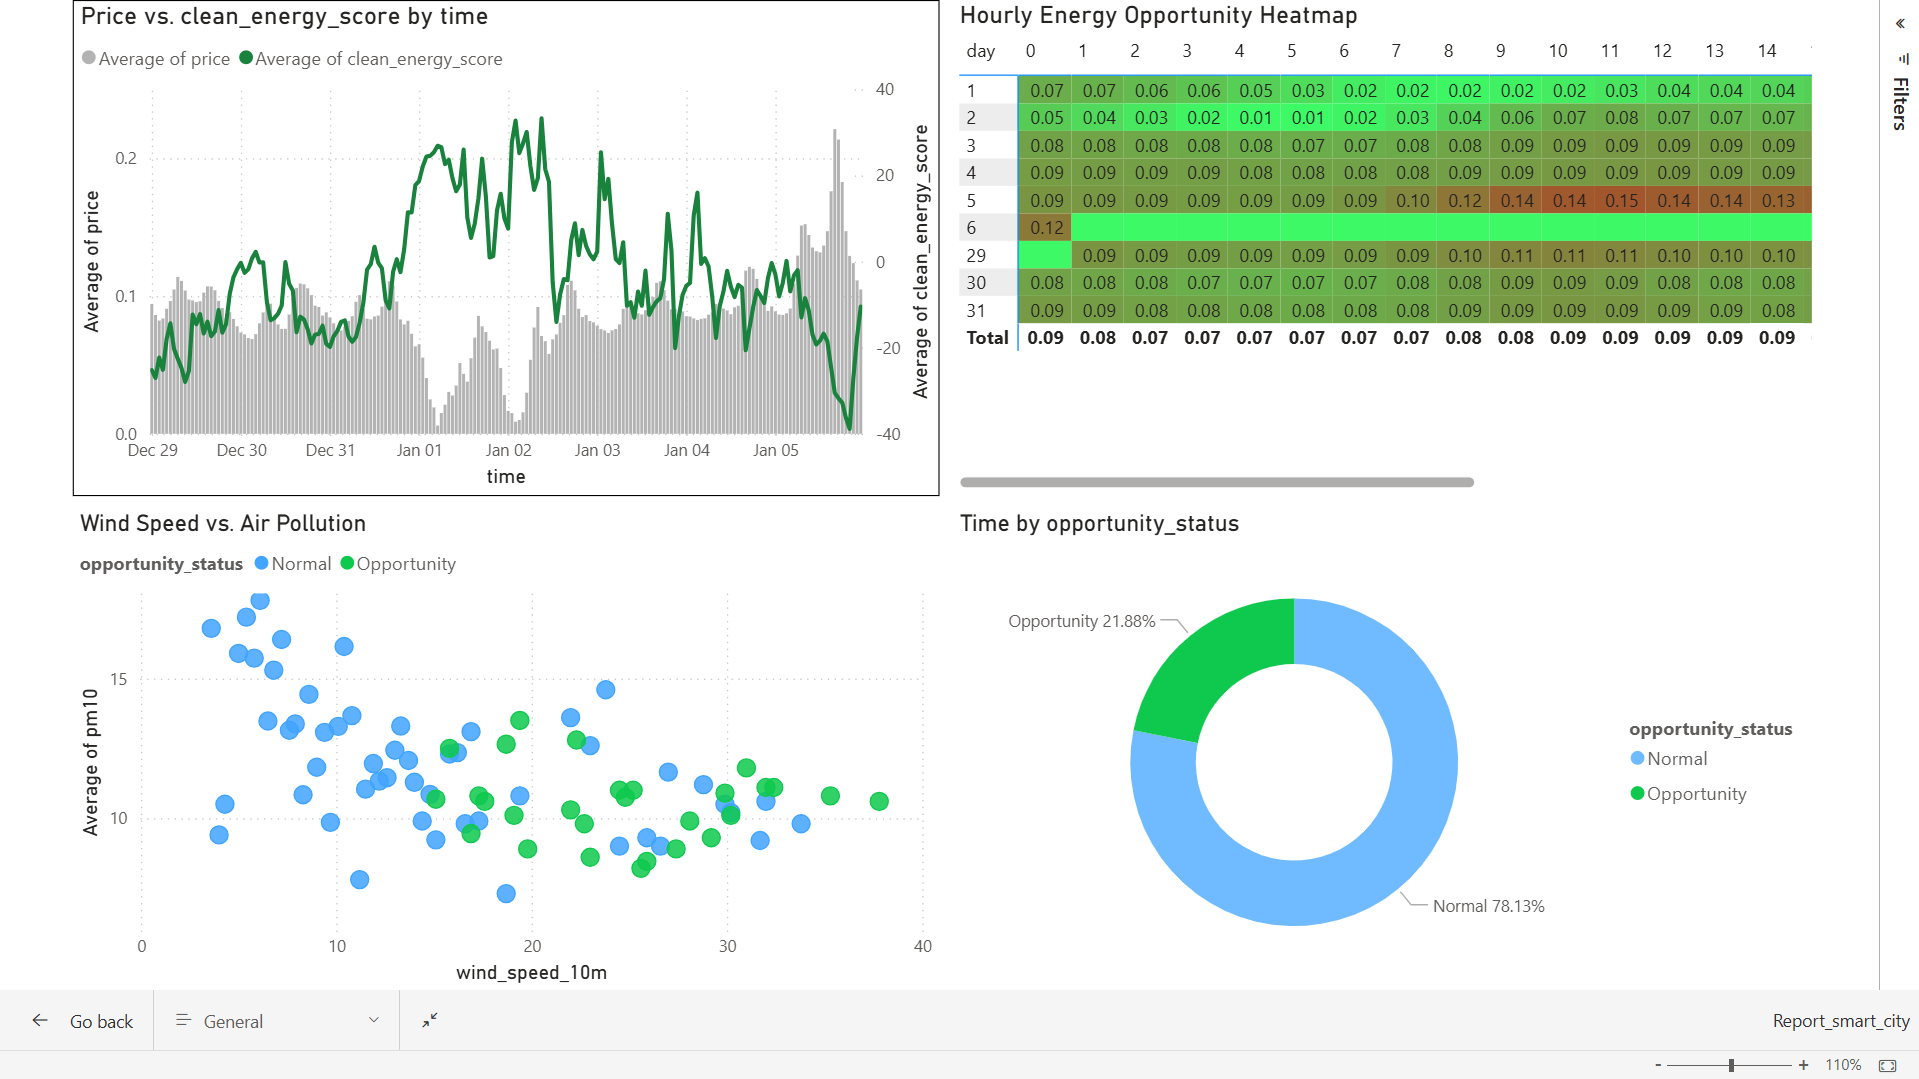

What the dashboard file says about the page in this screenshot:
{"tool":"powerbi","page":{"name":"Page 2","canvas":[1280,720],"ordinal":1},"visuals":[{"type":"lineClusteredColumnComboChart","fields":{"Category":["gold_smart_city_decisions.time"],"Y":["Avg(gold_smart_city_decisions.price)"],"Y2":["Avg(gold_smart_city_decisions.clean_energy_score)"]},"box":[9.9,0,630.4,360.4],"z":0},{"type":"scatterChart","title":"Wind Speed vs. Air Pollution","fields":{"Y":["Avg(gold_smart_city_decisions.pm10)"],"X":["gold_smart_city_decisions.wind_speed_10m"],"Series":["gold_smart_city_decisions.opportunity_status"]},"box":[10,370,630,350],"z":1},{"type":"pivotTable","fields":{"Rows":["gold_smart_city_decisions.day"],"Columns":["gold_smart_city_decisions.hour"],"Values":["Avg(gold_smart_city_decisions.avg_price_3h)"]},"box":[650,0,630,360],"z":2},{"type":"donutChart","fields":{"Category":["gold_smart_city_decisions.opportunity_status"],"Y":["CountNonNull(gold_smart_city_decisions.time)"]},"box":[650,370,630,350],"z":3}]}

Visuals, with their boxes on the page's 1280x720 design canvas (x1, y1, x2, y2). These are canvas units, not pixel positions in the 1919x1079 screenshot, which may show the page scaled, cropped or inside an application window:
lineClusteredColumnComboChart - gold_smart_city_decisions.time x Avg(gold_smart_city_decisions.price): (left=10, top=0, right=640, bottom=360)
"Wind Speed vs. Air Pollution" scatterChart: (left=10, top=370, right=640, bottom=720)
pivotTable - gold_smart_city_decisions.day x gold_smart_city_decisions.hour: (left=650, top=0, right=1280, bottom=360)
donutChart - gold_smart_city_decisions.opportunity_status x CountNonNull(gold_smart_city_decisions.time): (left=650, top=370, right=1280, bottom=720)
